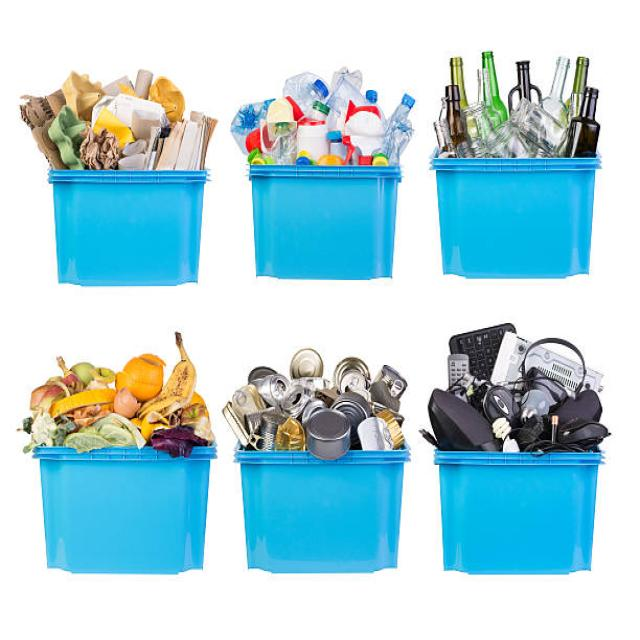cardboard: (15, 66, 146, 166)
glass: (427, 44, 601, 156)
metal: (228, 348, 415, 448)
paper: (154, 76, 222, 172)
plastic: (235, 80, 409, 172)
